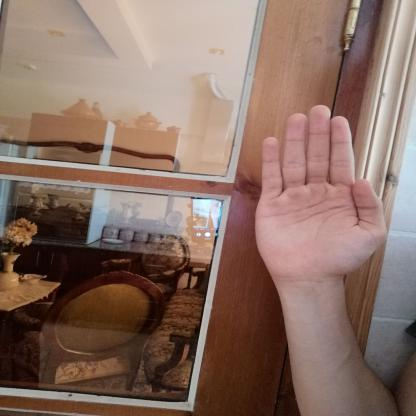SEEN: (240, 98, 396, 289)
